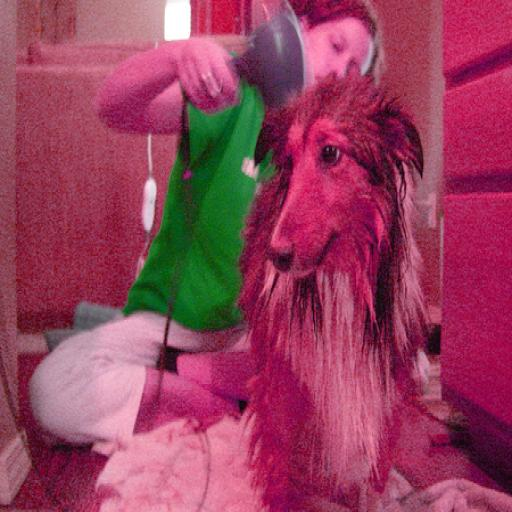dog_face: (248, 83, 435, 299)
